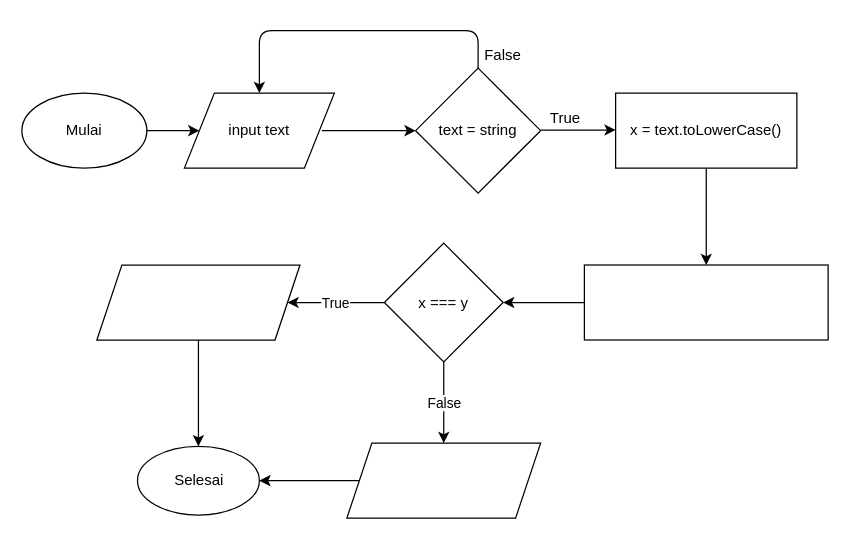
This 850x540 diagram has some shape labels left out. The centre of each missing label's shape, as x and y in pixels:
Output : "Text adalah Palindrom": (198,302)
Output : "Text bukan Palindrom": (443,480)
y = x.split('').reverse().join(''): (705,302)
